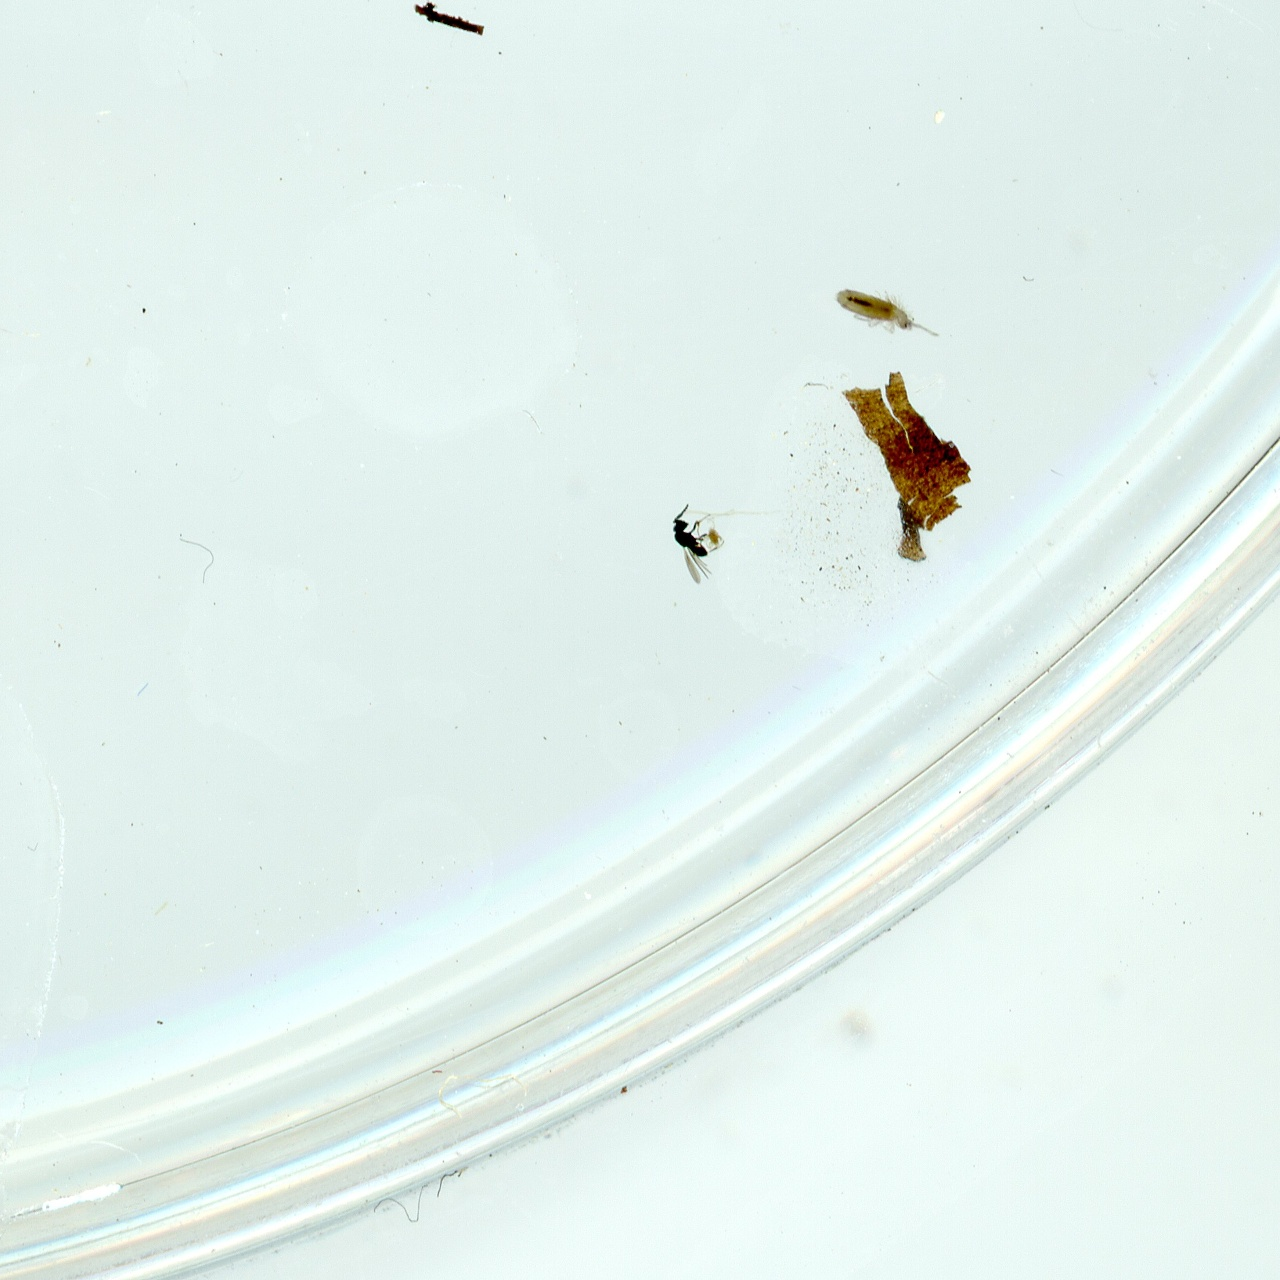arthropod: (833, 282, 942, 338), (667, 501, 719, 587)
